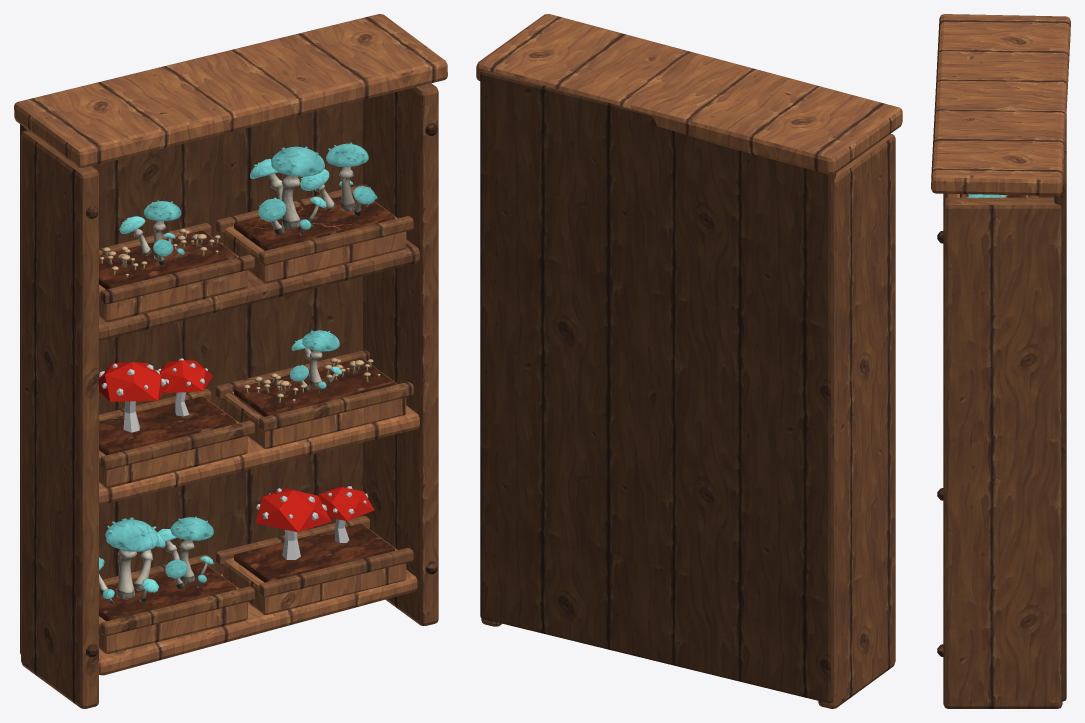
The model's file is mushroom_shelf_garden.glb.
3 renders of one model, left to right at view 1: azimuth 30°, elevation 25°; view 2: azimuth 150°, elevation 25°; view 3: azimuth 270°, elevation 25°, orthographic. The views are drawn at different scales.
Visible parts, largest first — view 1: model; view 2: model; view 3: model.
Boxes of the visible parts, x1=… form: model: x1=14, y1=14, x2=447, y2=708; model: x1=476, y1=14, x2=902, y2=708; model: x1=931, y1=14, x2=1070, y2=708.
Bounding box in the file's own units: 0.9768 × 1.44 × 0.3402.
Materials: 35 (27 with a texture image).
